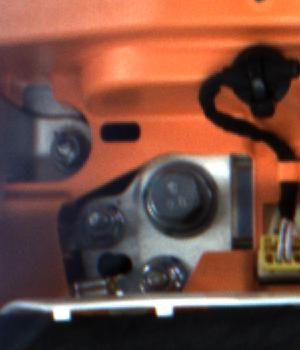nut_b: (141, 155, 221, 241)
